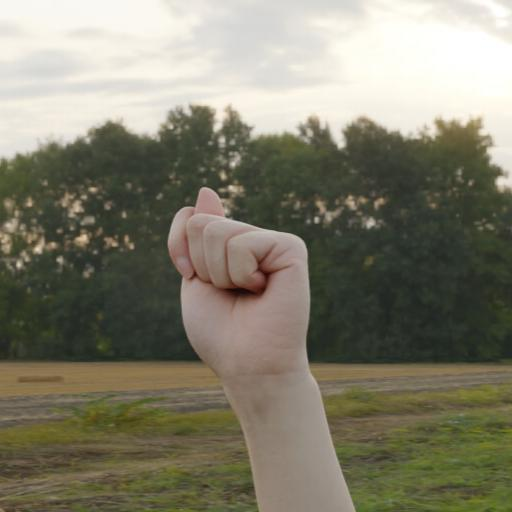T: (149, 164, 352, 500)
